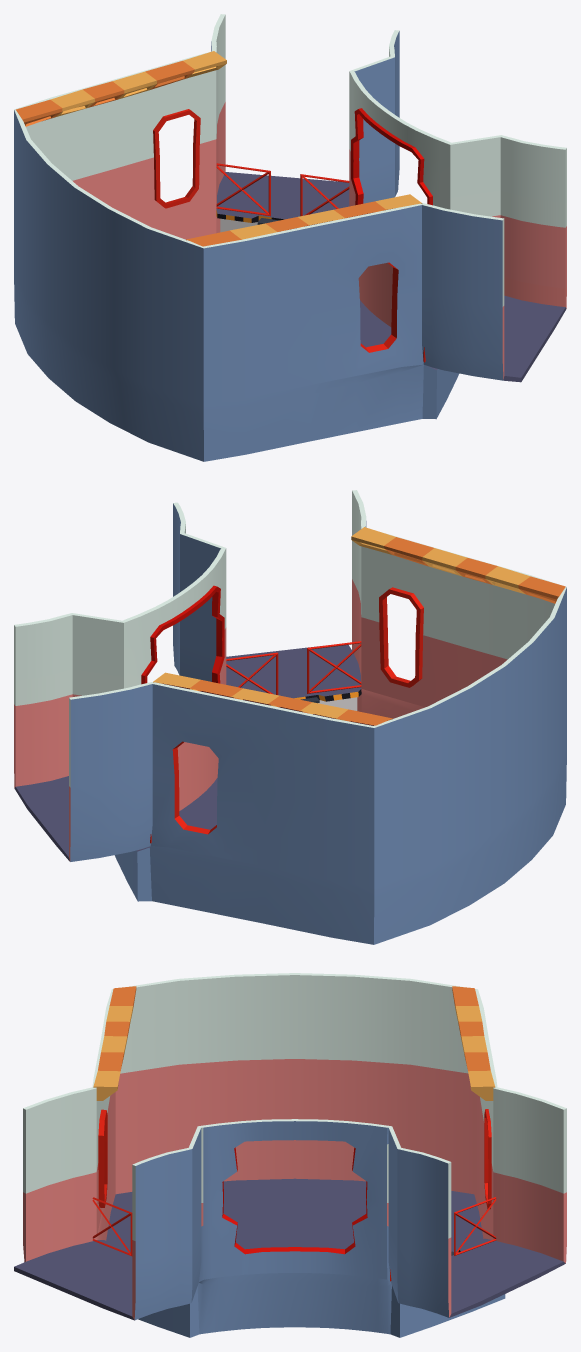
The model's file is laserbase.obj.
The picture shows the model from 3 angles, top to bottom: view 1: azimuth 30°, elevation 25°; view 2: azimuth 150°, elevation 25°; view 3: azimuth 270°, elevation 25°; orthographic projection. The views are drawn at different scales.
Parts seen in each view (by area): view 1: Laser_room_Base; view 2: Laser_room_Base; view 3: Laser_room_Base.
Boxes of the visible parts, left/top/right/bottom form: Laser_room_Base: left=14, top=14, right=566, bottom=461; Laser_room_Base: left=14, top=490, right=566, bottom=944; Laser_room_Base: left=14, top=973, right=566, bottom=1337.
Bounding box in the file's own units: 30.23 × 15.32 × 36.59.
